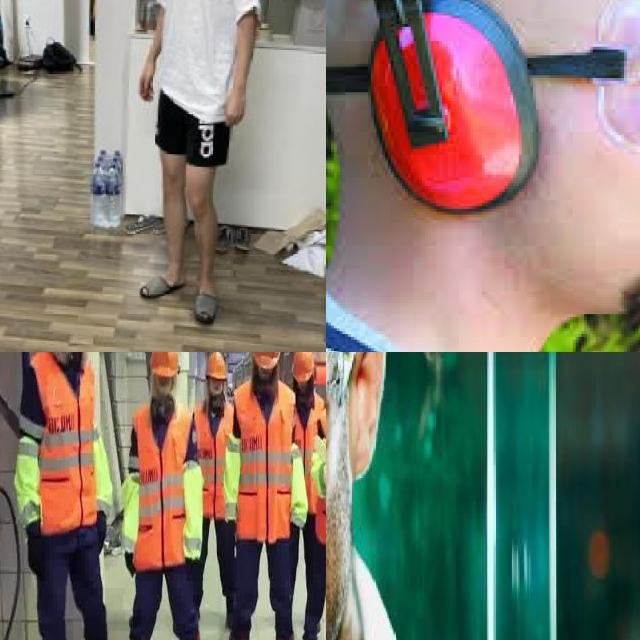Ear-protection: (365, 0, 538, 211)
No_Ear-Protection: (348, 352, 404, 482)
Sandals: (188, 270, 242, 338), (129, 258, 190, 308)
glasses: (524, 0, 640, 152)
head_helmet: (149, 352, 179, 380), (291, 352, 315, 383), (205, 352, 226, 384), (250, 352, 281, 371)
vest: (30, 352, 96, 531), (133, 402, 193, 572), (234, 380, 294, 542), (195, 394, 235, 516), (292, 392, 324, 512)
